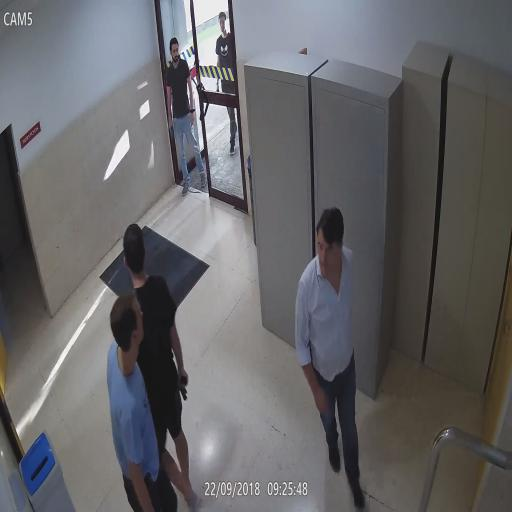Handgun: (176, 371, 189, 403), (168, 115, 174, 144), (214, 82, 221, 95)
